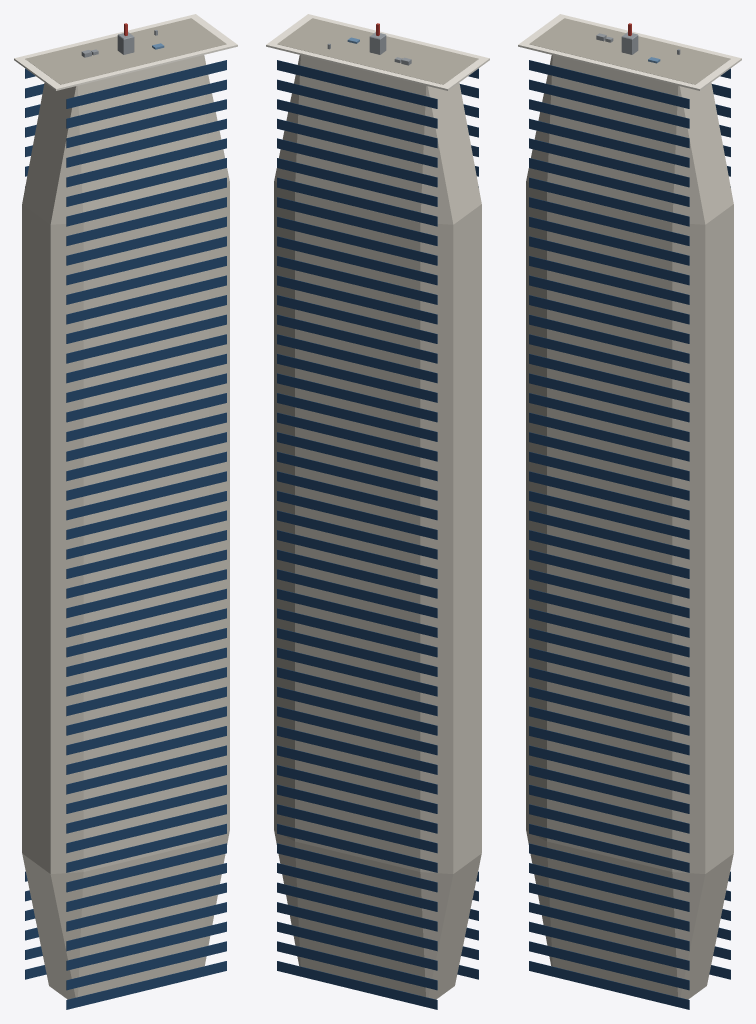
The model's file is tower_slab_h180.glb.
The picture shows the model from 3 angles, left to right: view 1: azimuth 30°, elevation 25°; view 2: azimuth 150°, elevation 25°; view 3: azimuth 330°, elevation 25°; orthographic projection.
Parts seen in each view (by area): view 1: slab, slabroof, slablip, win.013, win.025, win.028, win.040, win.001, win.004, win.008, win.009, win.011 (+38 smaller); view 2: slab, slabroof, slablip, win.060, win.072, win.075, win.087, win.048, win.051, win.055, win.056, win.058 (+38 smaller); view 3: slab, slabroof, slablip, win.013, win.025, win.028, win.040, win.001, win.004, win.008, win.009, win.011 (+38 smaller).
Part boxes in pixels (bbox=[...]): slab: bbox=[22, 55, 229, 999]; slabroof: bbox=[25, 18, 226, 84]; slablip: bbox=[14, 14, 237, 90]; win.013: bbox=[66, 706, 226, 755]; win.025: bbox=[66, 471, 226, 520]; win.028: bbox=[66, 412, 226, 461]; win.040: bbox=[66, 177, 226, 226]; win.001: bbox=[66, 941, 226, 990]; win.004: bbox=[66, 882, 226, 931]; win.008: bbox=[66, 804, 226, 853]; win.009: bbox=[66, 784, 226, 833]; win.011: bbox=[66, 745, 226, 794]; slab: bbox=[274, 55, 481, 999]; slabroof: bbox=[277, 18, 478, 84]; slablip: bbox=[266, 14, 489, 90]; win.060: bbox=[277, 706, 437, 755]; win.072: bbox=[277, 471, 437, 520]; win.075: bbox=[277, 412, 437, 461]; win.087: bbox=[277, 177, 437, 226]; win.048: bbox=[277, 941, 437, 990]; win.051: bbox=[277, 882, 437, 931]; win.055: bbox=[277, 804, 437, 853]; win.056: bbox=[277, 784, 437, 833]; win.058: bbox=[277, 745, 437, 794]; slab: bbox=[526, 55, 733, 999]; slabroof: bbox=[529, 18, 730, 84]; slablip: bbox=[518, 14, 741, 90]; win.013: bbox=[529, 706, 689, 755]; win.025: bbox=[529, 471, 689, 520]; win.028: bbox=[529, 412, 689, 461]; win.040: bbox=[529, 177, 689, 226]; win.001: bbox=[529, 941, 689, 990]; win.004: bbox=[529, 882, 689, 931]; win.008: bbox=[529, 804, 689, 853]; win.009: bbox=[529, 784, 689, 833]; win.011: bbox=[529, 745, 689, 794].
Bounding box in the file's own units: 36.92 × 186 × 14.82.
